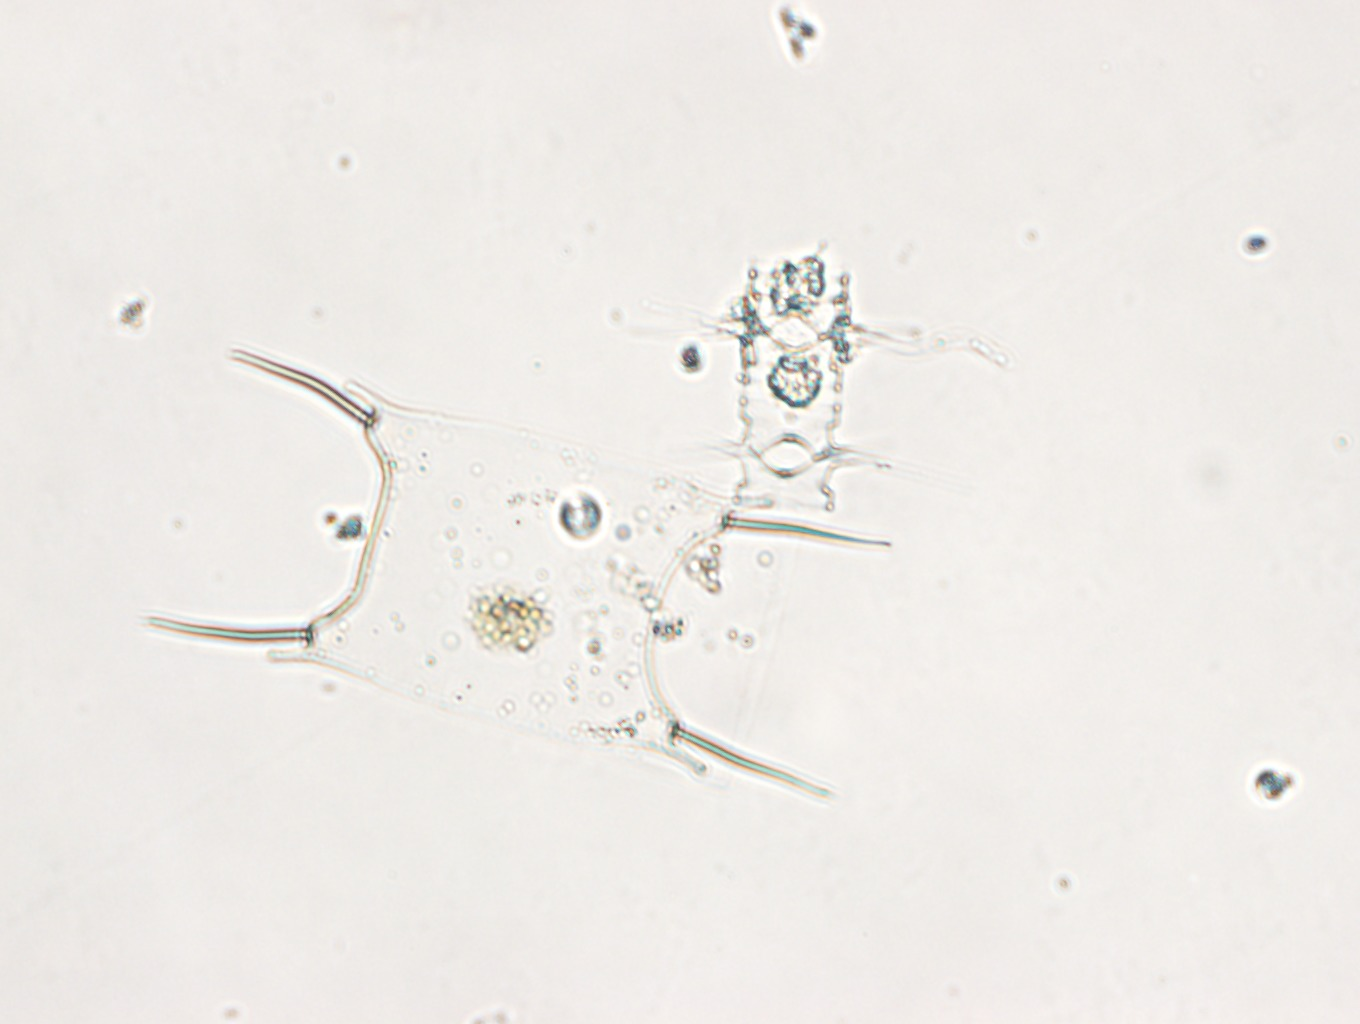biddulphia: (143, 342, 890, 795)
chaetoceros: (638, 250, 1004, 517)
